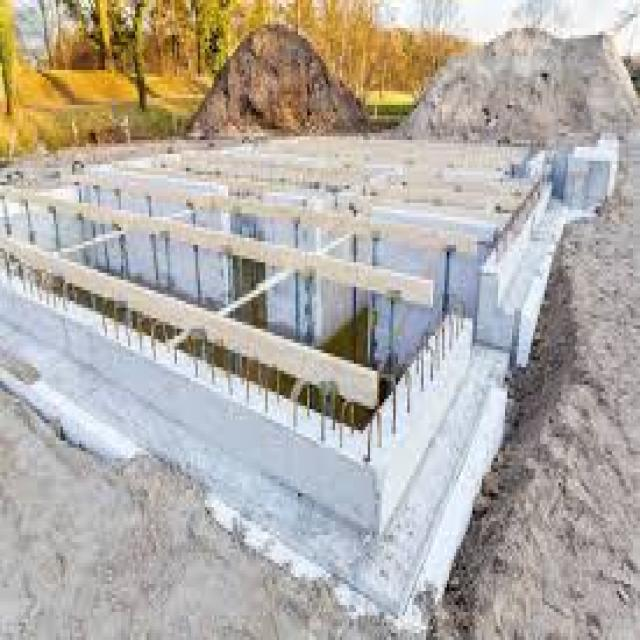Foundation: (2, 114, 545, 544)
